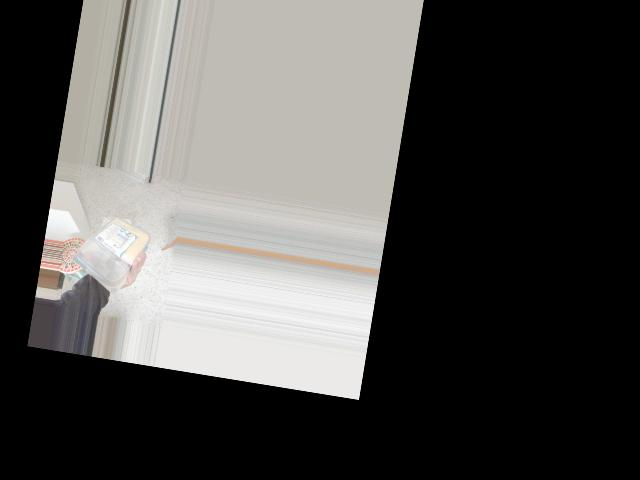cheese: (69, 206, 145, 285)
